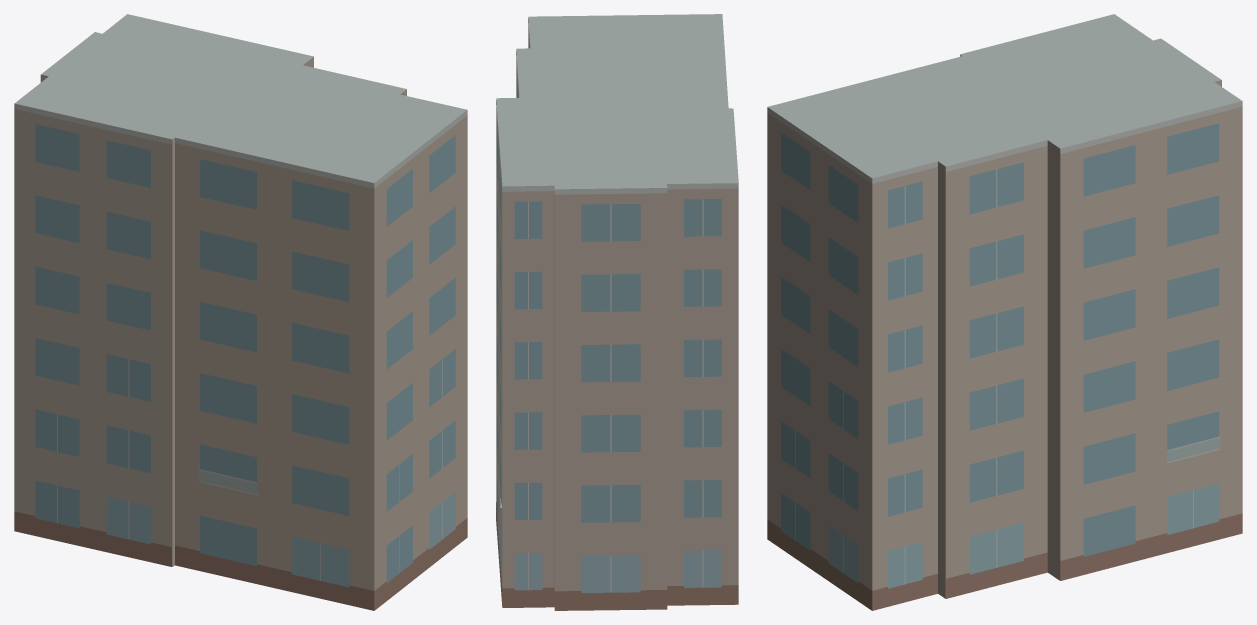
File: survey-upis-32961133.glb
3 views of the same model, side by side, from view 1: azimuth 30°, elevation 25°; view 2: azimuth 150°, elevation 25°; view 3: azimuth 270°, elevation 25° (orthographic). The views are drawn at different scales.
Visible parts, largest first — view 1: survey-upis-32961133.tmp; view 2: survey-upis-32961133.tmp; view 3: survey-upis-32961133.tmp.
Part boxes in pixels (x1,y1,x2,y2): survey-upis-32961133.tmp: (14,14,467,610); survey-upis-32961133.tmp: (496,14,738,610); survey-upis-32961133.tmp: (767,14,1242,610).
Bounding box in the file's own units: 15.67 × 19.2 × 19.14.
